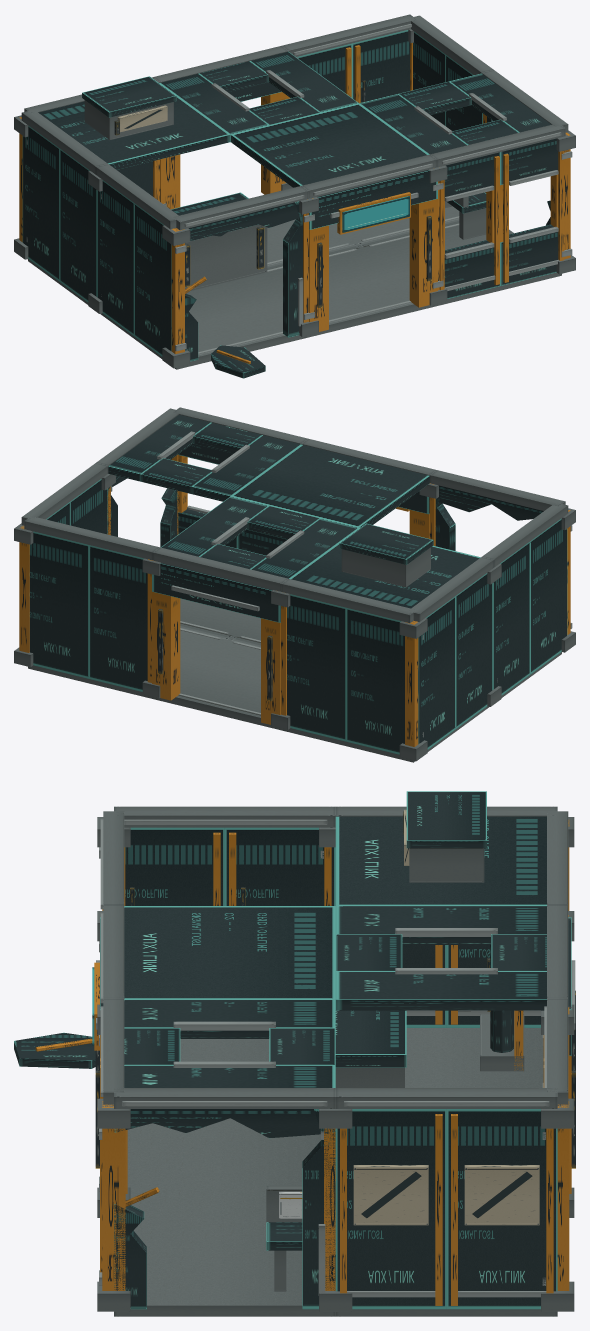
The model's file is CargoDepot_Ruined_LOD2.obj.
3 views of the same model, one above another, from view 1: azimuth 30°, elevation 25°; view 2: azimuth 150°, elevation 25°; view 3: azimuth 270°, elevation 25° (orthographic). The views are drawn at different scales.
Visible parts, largest first — view 1: 004_roof_4m.002, 006_roof_skylight_4m.002, 008_roof_skylight_4m.002, 023_doorframe_4m.002, 003_floor_4m.002, 026_wall_window_2m.002, 025_wall_window_2m.002, 002_roof_4m.002, 000_floor_4m.002, 032_wall_vent_2m.002, 028_wall_solid_2m.002, 051_cargo_container.002 (+31 smaller); view 2: 004_roof_4m.002, 037_doorframe_4m.002, 008_roof_skylight_4m.002, 040_wall_solid_2m.002, 006_roof_skylight_4m.002, 035_wall_solid_2m.002, 034_wall_solid_2m.002, 039_wall_solid_2m.002, 005_floor_4m.002, 028_wall_solid_2m.002, 032_wall_vent_2m.002, 031_wall_vent_2m.002 (+29 smaller); view 3: 044_wall_vent_2m.002, 045_wall_vent_2m.002, 006_roof_skylight_4m.002, 004_roof_4m.002, 008_roof_skylight_4m.002, 007_floor_4m.002, 002_roof_4m.002, 003_floor_4m.002, 042_wall_breach_4m.002, 029_wall_solid_2m.002, 028_wall_solid_2m.002, 048_hvac_unit.002 (+24 smaller).
Boxes of the visible parts, <box> form: 004_roof_4m.002: <box>230,103,428,187</box>; 006_roof_skylight_4m.002: <box>160,51,358,134</box>; 008_roof_skylight_4m.002: <box>359,73,551,154</box>; 023_doorframe_4m.002: <box>309,169,437,331</box>; 003_floor_4m.002: <box>235,245,433,338</box>; 026_wall_window_2m.002: <box>500,138,564,285</box>; 025_wall_window_2m.002: <box>439,152,500,298</box>; 002_roof_4m.002: <box>38,83,230,169</box>; 000_floor_4m.002: <box>102,280,304,369</box>; 032_wall_vent_2m.002: <box>22,125,59,281</box>; 028_wall_solid_2m.002: <box>134,203,171,356</box>; 051_cargo_container.002: <box>171,192,267,290</box>; 004_roof_4m.002: <box>231,444,429,527</box>; 037_doorframe_4m.002: <box>152,562,280,724</box>; 008_roof_skylight_4m.002: <box>108,414,300,501</box>; 040_wall_solid_2m.002: <box>29,531,89,678</box>; 006_roof_skylight_4m.002: <box>161,496,358,578</box>; 035_wall_solid_2m.002: <box>287,594,346,741</box>; 034_wall_solid_2m.002: <box>346,608,404,754</box>; 039_wall_solid_2m.002: <box>89,545,147,691</box>; 005_floor_4m.002: <box>156,638,284,731</box>; 028_wall_solid_2m.002: <box>530,518,567,674</box>; 032_wall_vent_2m.002: <box>418,596,455,749</box>; 031_wall_vent_2m.002: <box>456,573,492,728</box>; 044_wall_vent_2m.002: <box>335,1109,446,1309</box>; 045_wall_vent_2m.002: <box>446,1109,557,1309</box>; 006_roof_skylight_4m.002: <box>335,906,546,1010</box>; 004_roof_4m.002: <box>124,906,335,999</box>; 008_roof_skylight_4m.002: <box>124,999,335,1087</box>; 007_floor_4m.002: <box>114,1212,335,1316</box>; 002_roof_4m.002: <box>335,816,546,905</box>; 003_floor_4m.002: <box>127,1118,320,1211</box>; 042_wall_breach_4m.002: <box>114,1109,335,1309</box>; 029_wall_solid_2m.002: <box>224,827,335,905</box>; 028_wall_solid_2m.002: <box>124,827,224,905</box>; 048_hvac_unit.002: <box>403,791,486,882</box>.
Size of the model in its own units: 12.53 by 5.3 by 10.13.
Materials: 1 (1 with a texture image).
